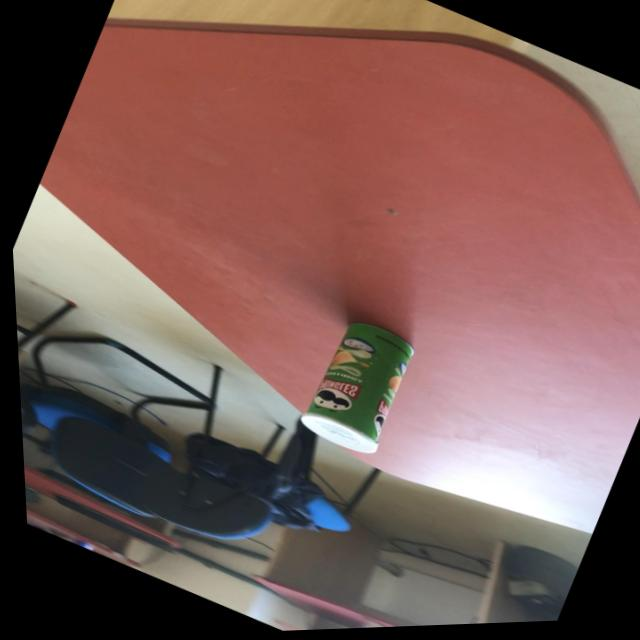a pringles: (284, 312, 420, 466)
